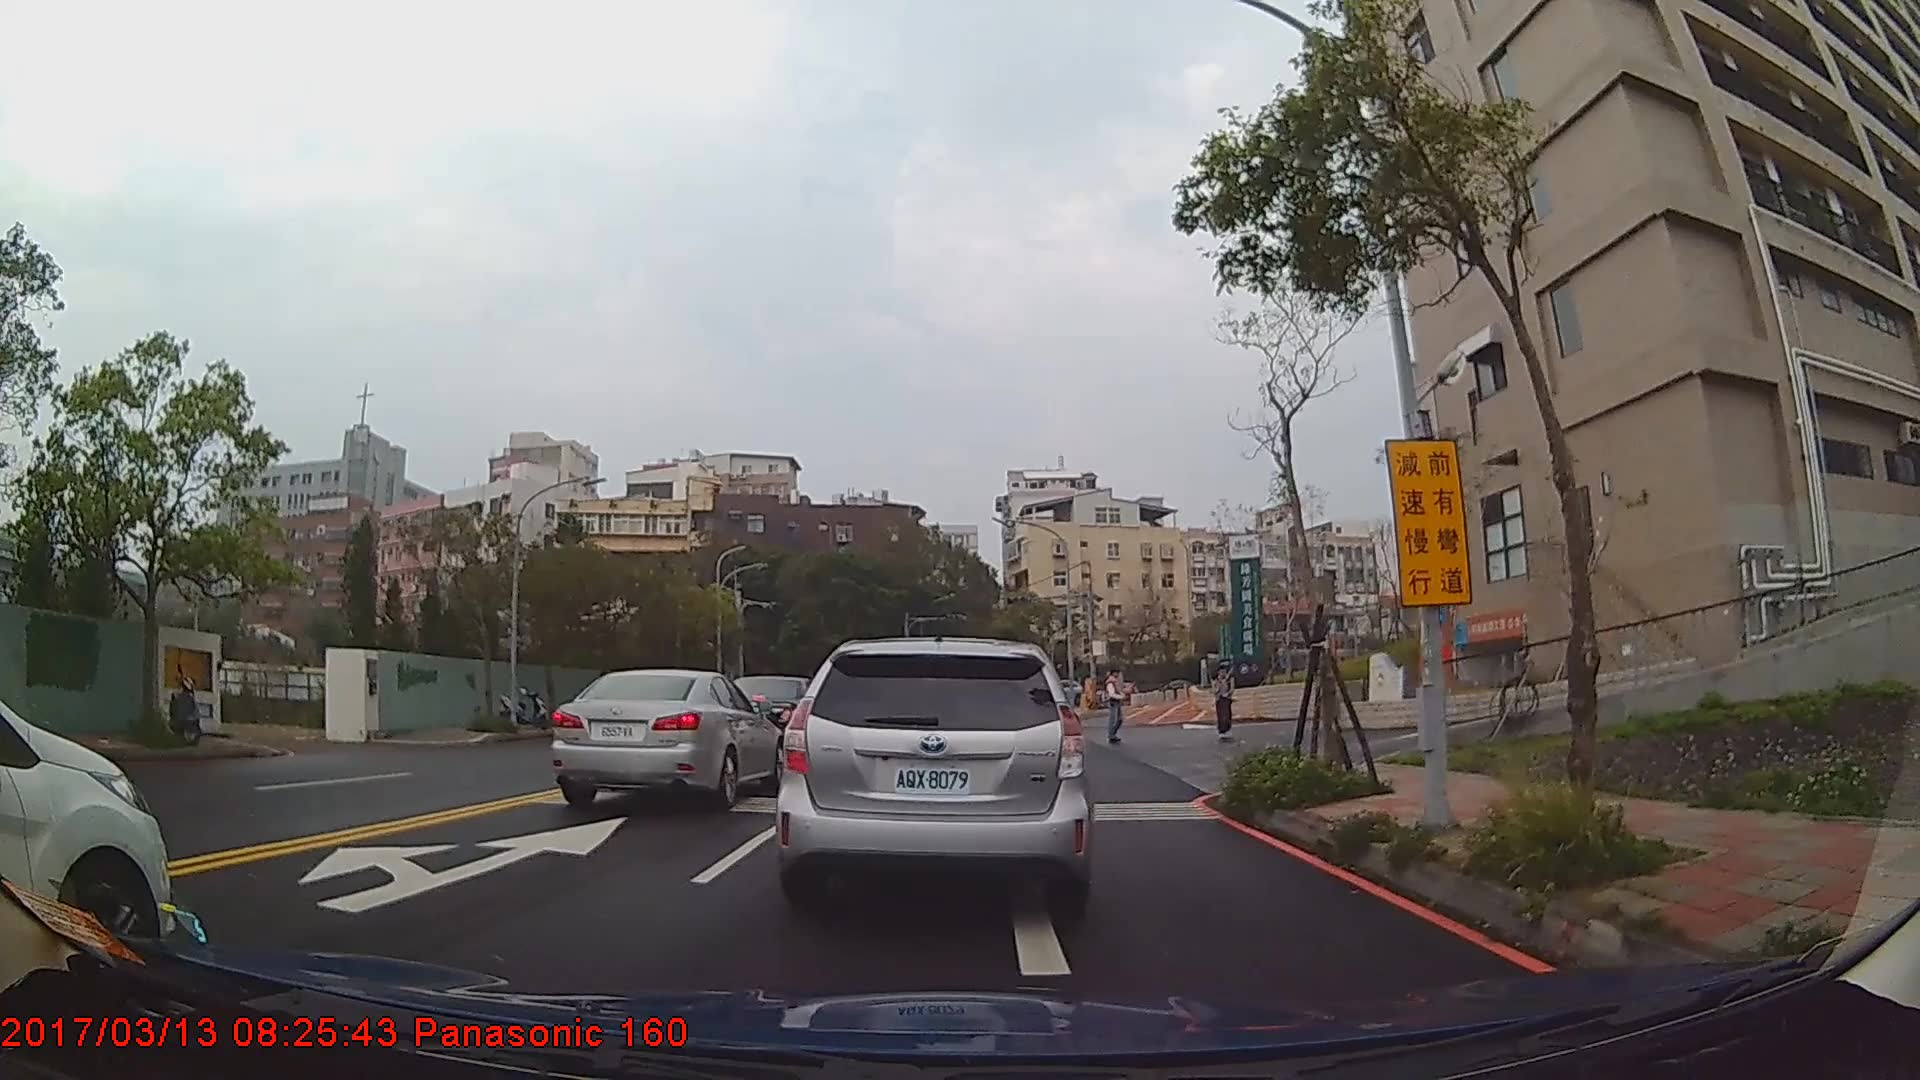pedestrian: (1103, 668, 1130, 744), (1214, 667, 1239, 743)
vehicle: (776, 635, 1095, 906), (0, 698, 170, 960), (551, 668, 787, 806)
